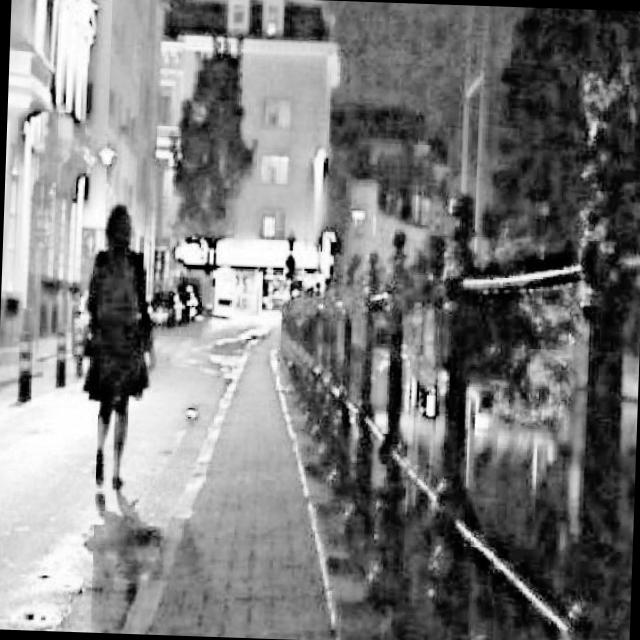Person: (77, 201, 163, 492)
